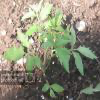Tomato leaf: (56, 47, 71, 75), (3, 46, 25, 64), (76, 44, 98, 61), (16, 29, 30, 49), (24, 55, 35, 80), (38, 3, 53, 20), (24, 24, 38, 38), (54, 9, 63, 28), (54, 38, 72, 47), (50, 82, 65, 92), (71, 25, 77, 48), (33, 56, 41, 71), (42, 41, 55, 49), (43, 20, 53, 30), (40, 82, 50, 91), (48, 17, 55, 29), (49, 89, 56, 98), (55, 26, 65, 32)
